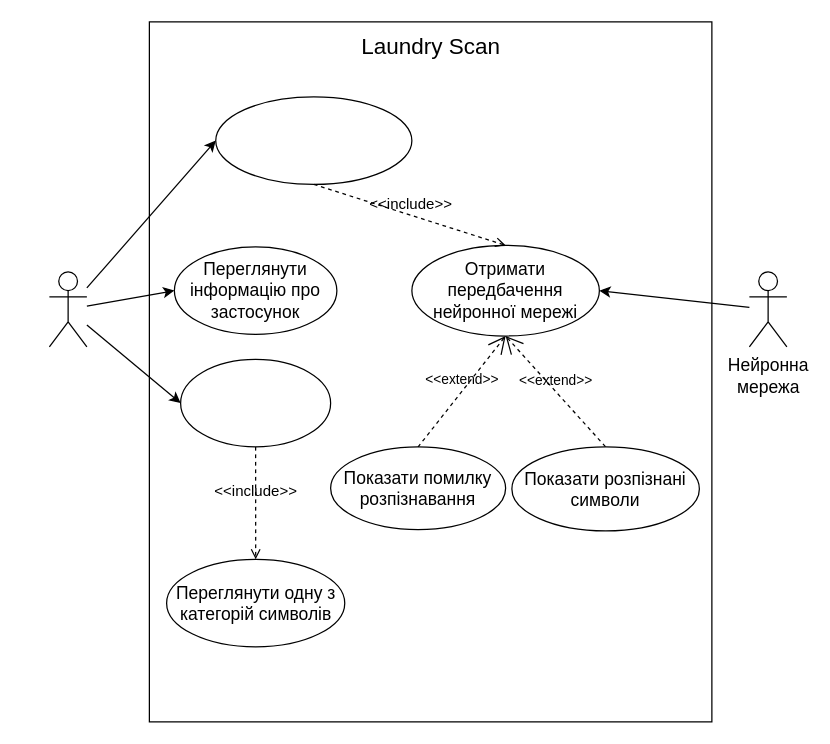
This 830x744 diagram has some shape labels left out. Here are the shapes that lost their labels. From the top down, the box of each, then its label:
(214, 96, 412, 184): Сканувати етикетку з символами
(48, 271, 87, 347): Користувач
(179, 358, 331, 447): Переглянути список символів
